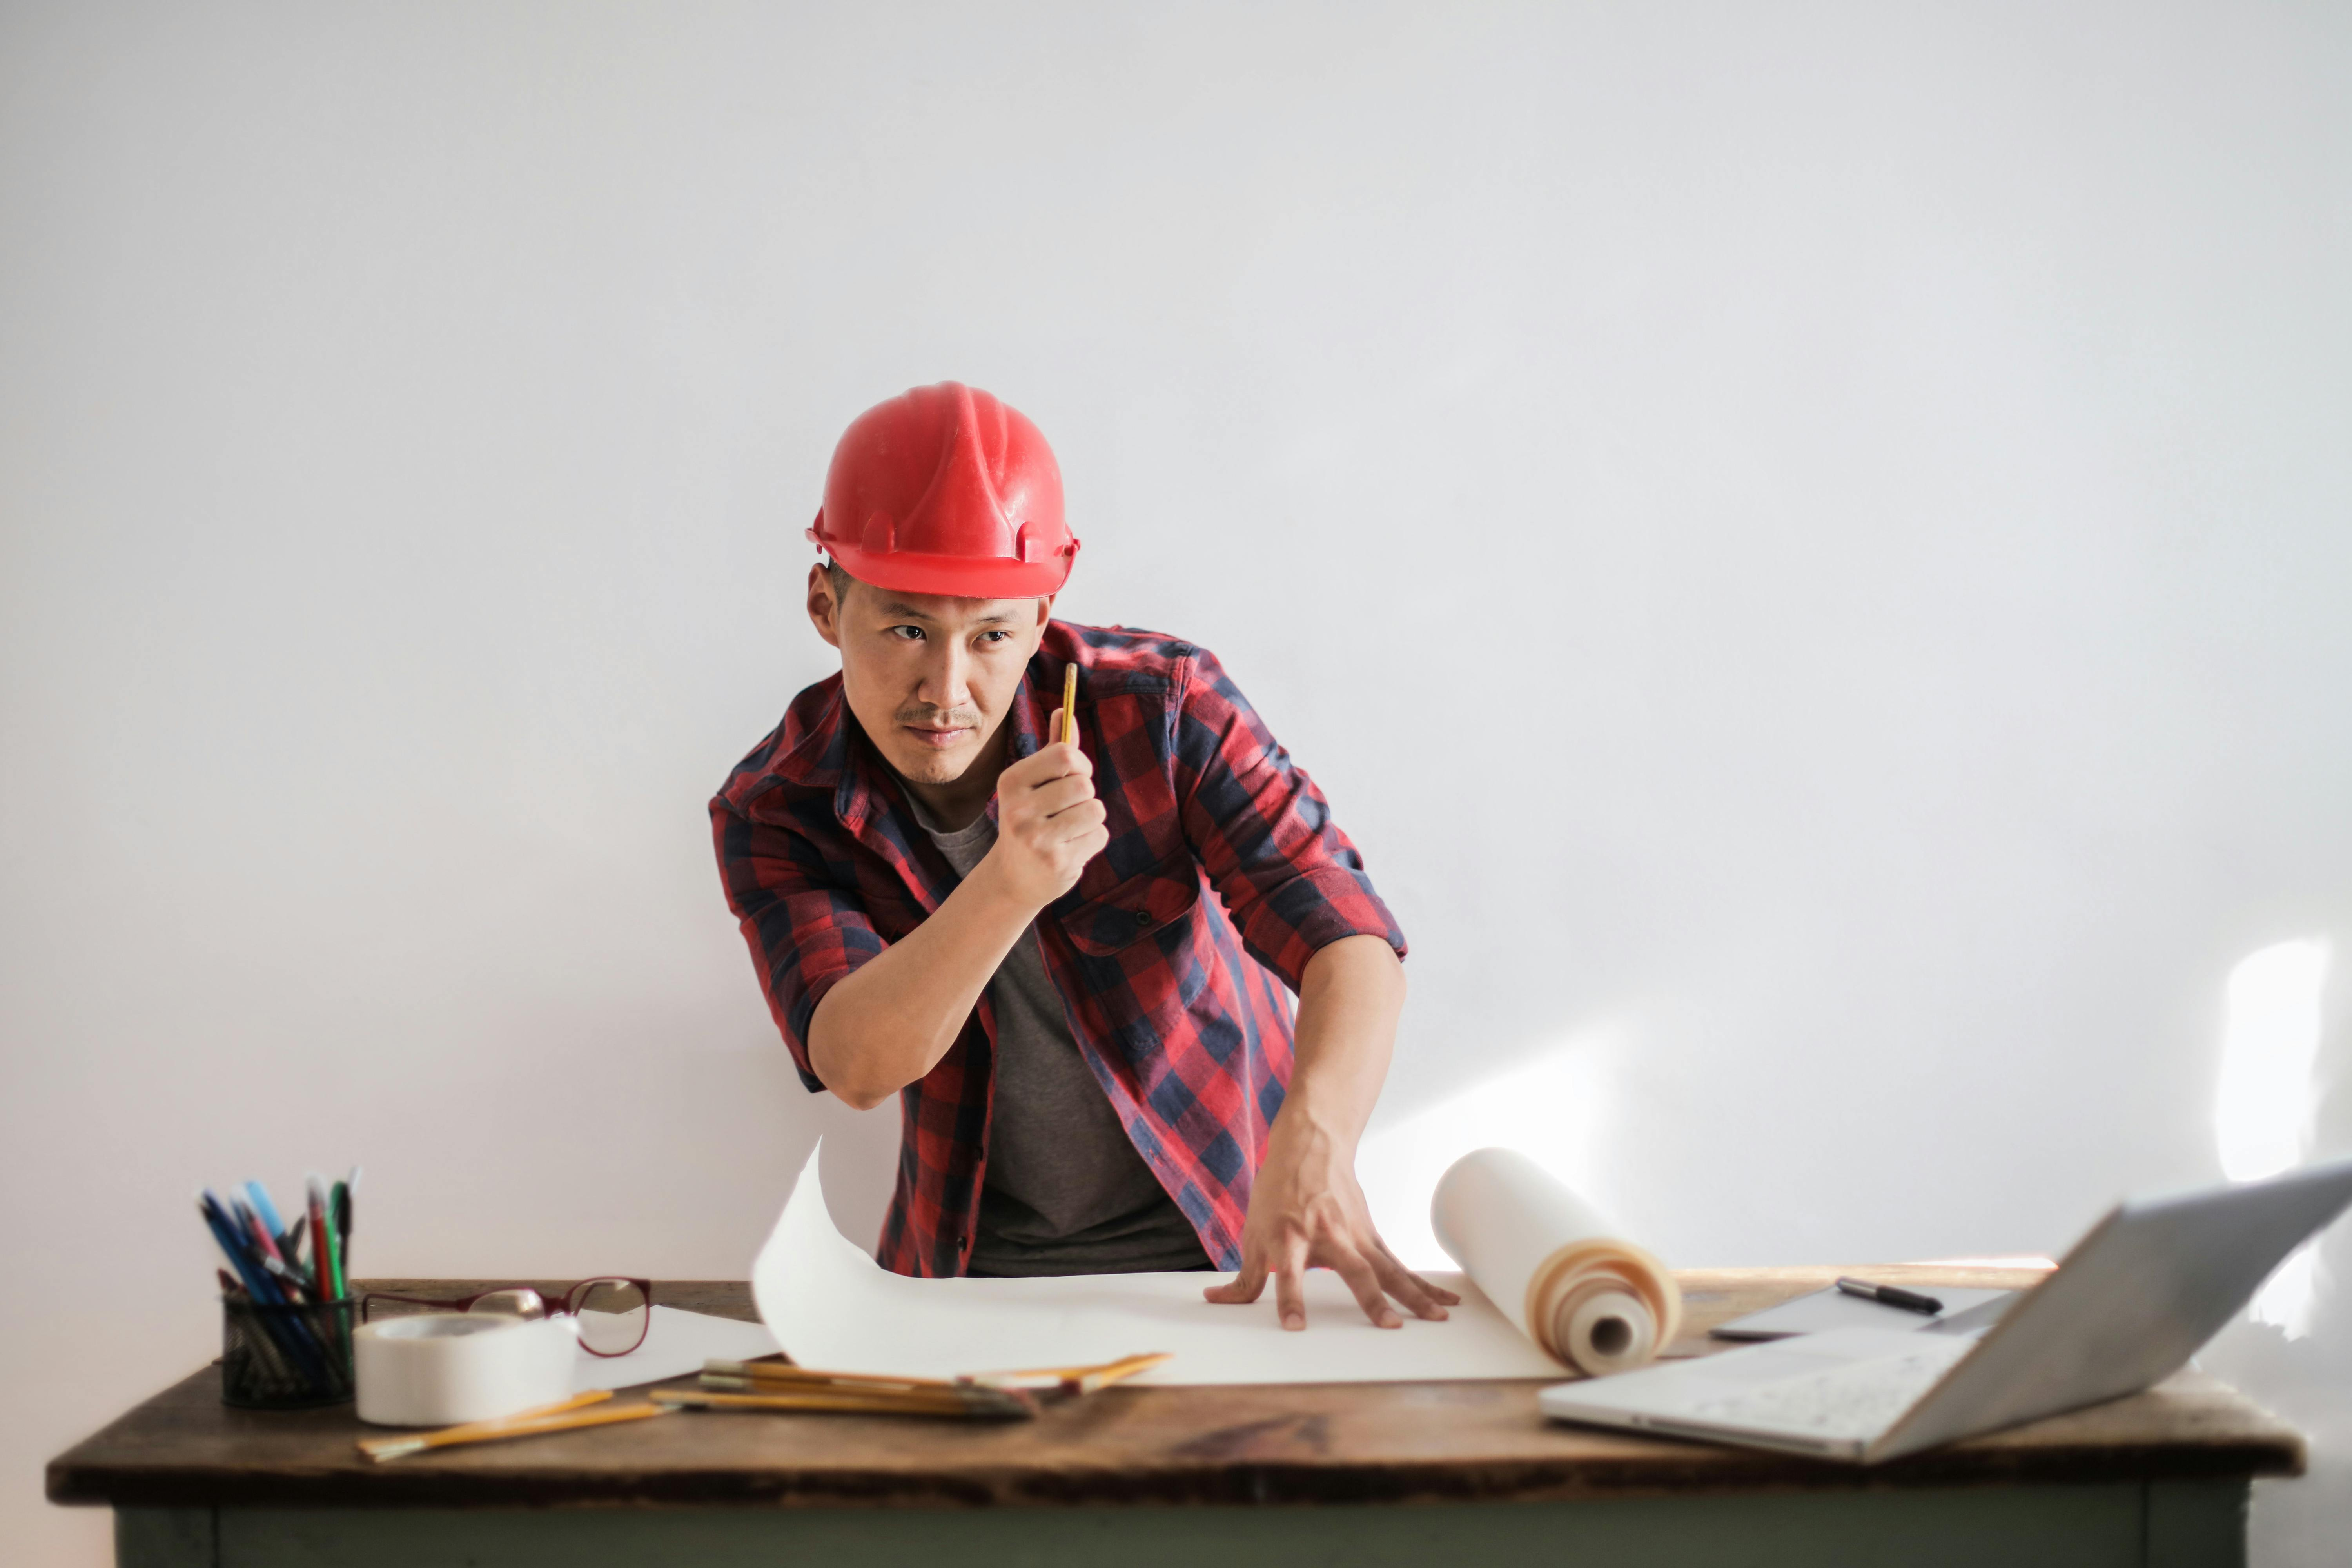capacete: (800, 378, 1083, 604)
